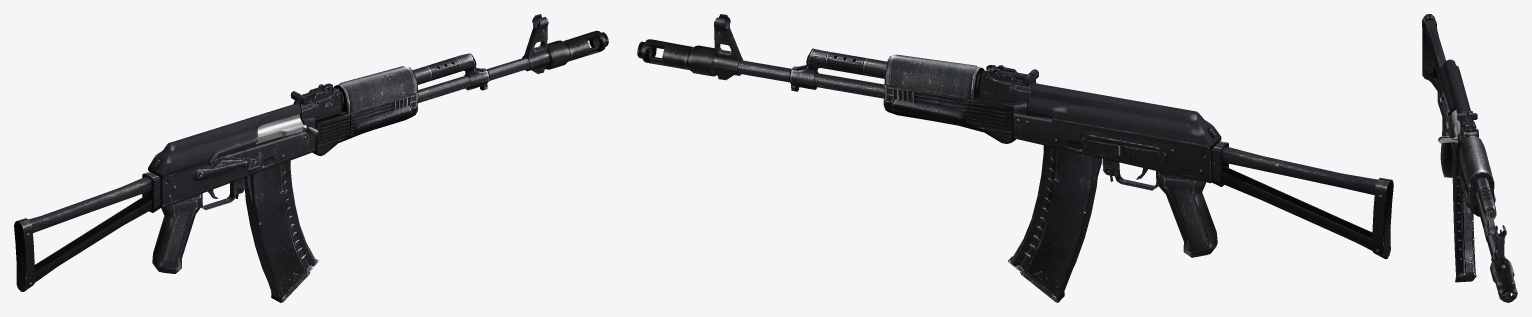
File: aks.fbx
3 renders of one model, left to right at view 1: azimuth 30°, elevation 25°; view 2: azimuth 150°, elevation 25°; view 3: azimuth 270°, elevation 25°, orthographic. The views are drawn at different scales.
Visible parts, largest first — view 1: view_aks_ref_aks01, view_aks_ref_aks02; view 2: view_aks_ref_aks01, view_aks_ref_aks02; view 3: view_aks_ref_aks01, view_aks_ref_aks02.
Boxes of the visible parts, box(x1,y1,x2,y2) form: view_aks_ref_aks01: box(14, 14, 608, 291); view_aks_ref_aks02: box(208, 113, 318, 302); view_aks_ref_aks01: box(637, 14, 1393, 259); view_aks_ref_aks02: box(1008, 145, 1147, 302); view_aks_ref_aks01: box(1422, 14, 1517, 302); view_aks_ref_aks02: box(1438, 109, 1476, 282).
Bounding box in the file's own units: 1631 × 494 × 236.
Materials: 2 (2 with a texture image).
